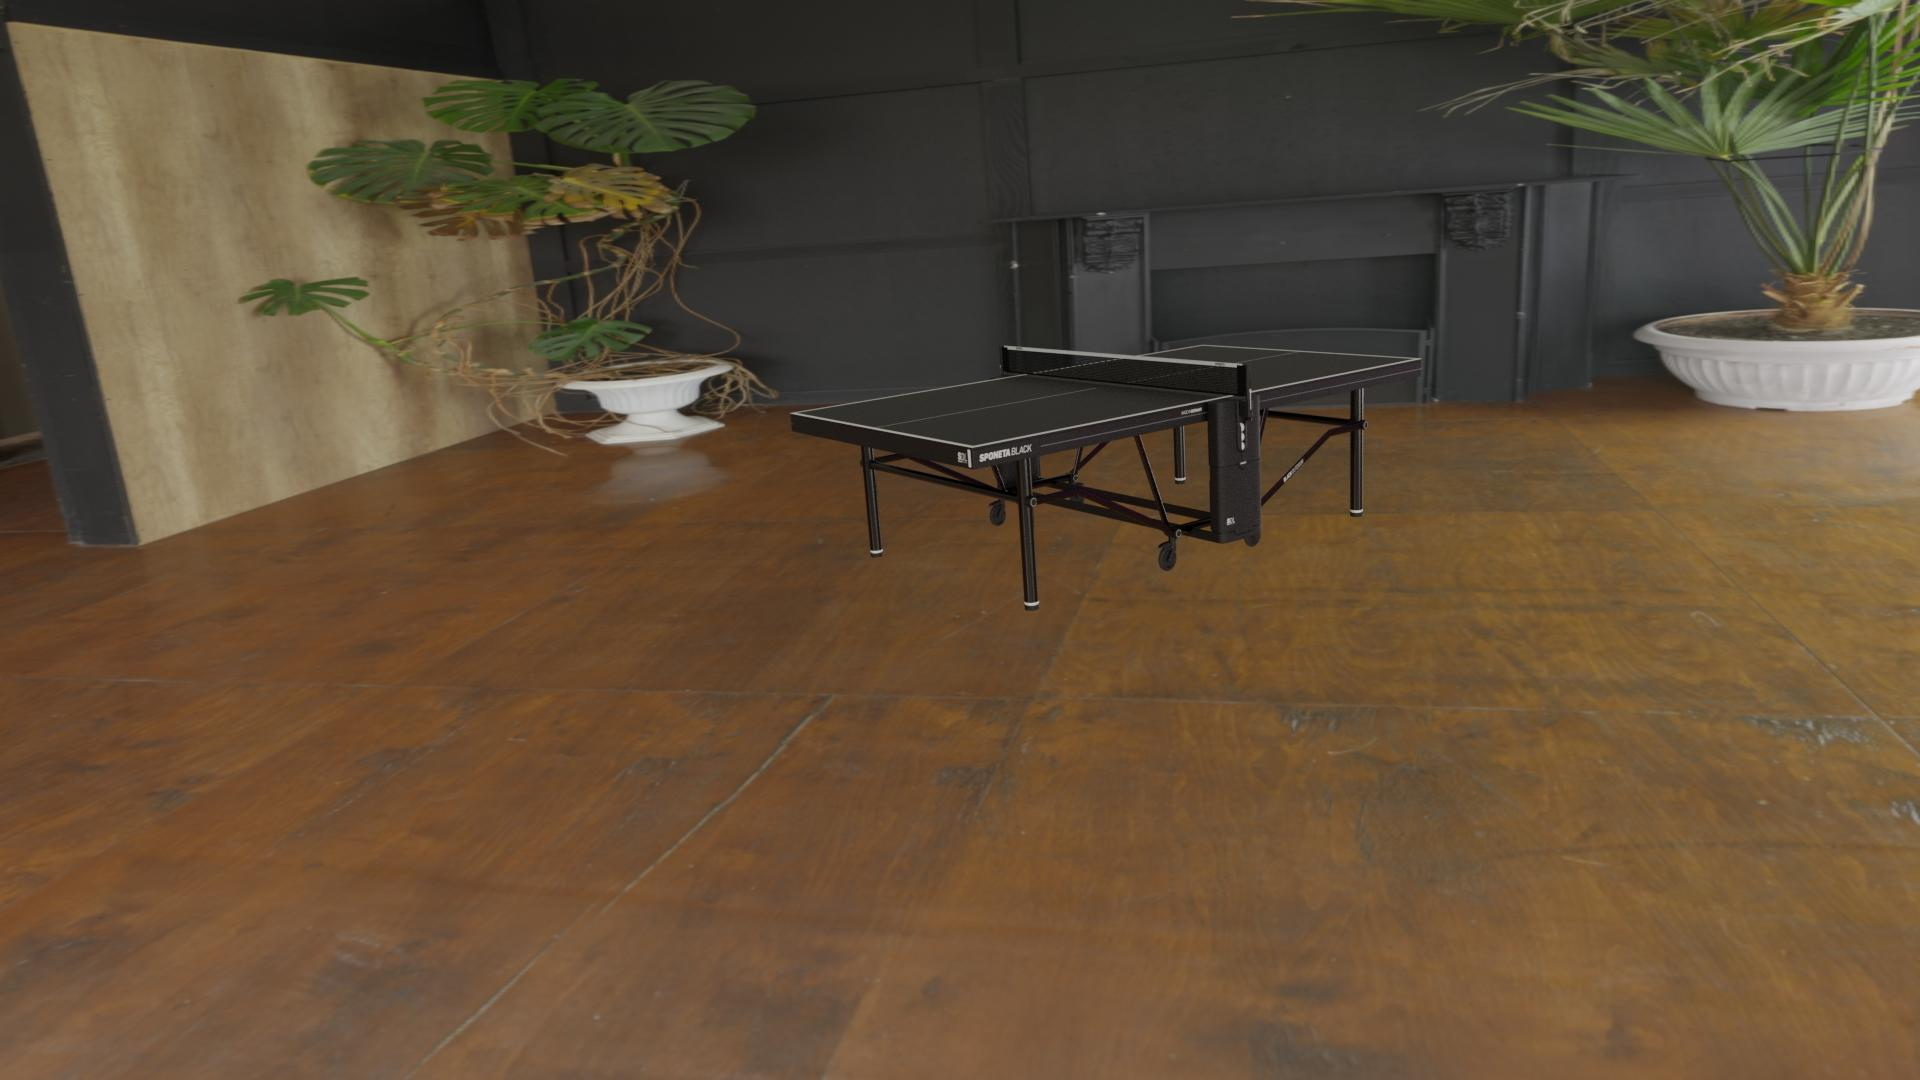table: (795, 345, 1416, 446)
